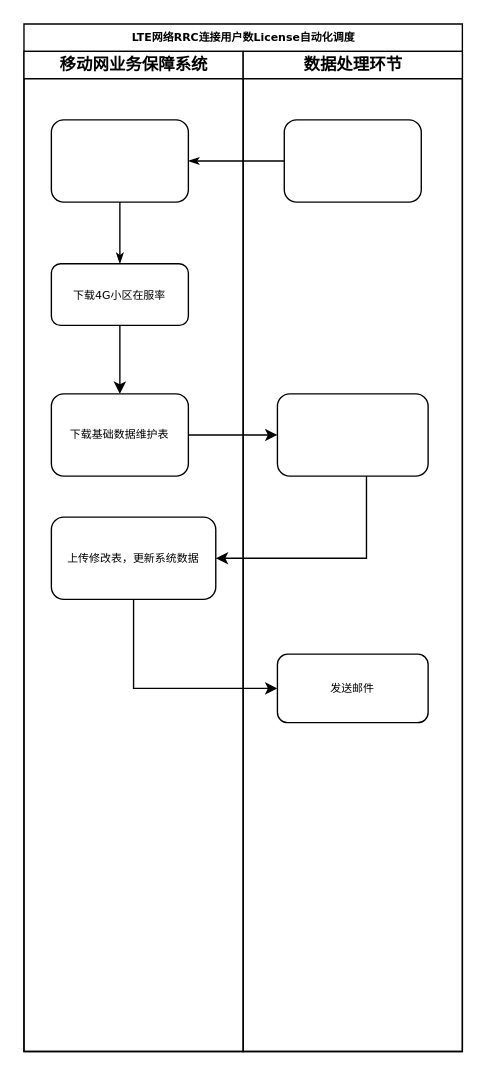
Image size: 486x1075. Some labels were removed from this diagram. Here are the shapes that lost their labels. From the top down, the centre of each, then its label:
the point at 119,160: 登录移动网业务保障系统
the point at 352,160: 设置运行地市数量
the point at 352,434: 处理数据表
